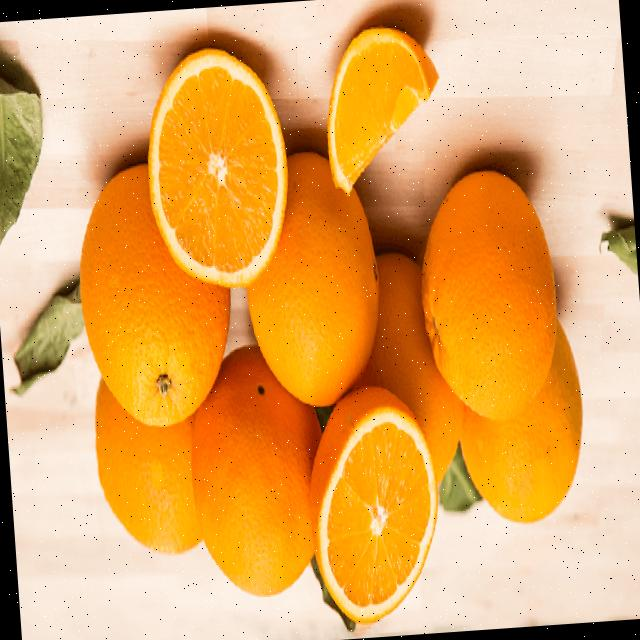Jeruk: (71, 158, 239, 433), (137, 43, 296, 296), (412, 165, 564, 428), (236, 148, 387, 412), (182, 342, 332, 603), (301, 382, 446, 628), (450, 318, 590, 529), (356, 247, 469, 491), (319, 22, 446, 198), (90, 372, 204, 562)
